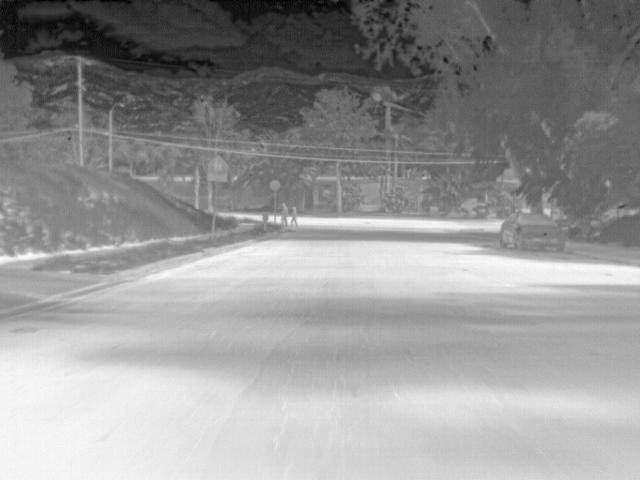car: (502, 212, 565, 251)
person: (278, 201, 290, 223), (289, 205, 299, 225)
